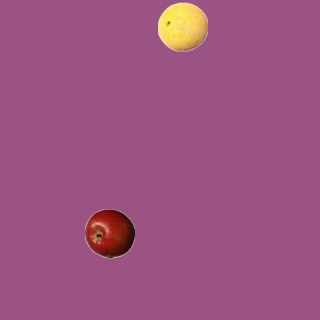Apple Braeburn: (84, 208, 134, 258)
Cantaloupe 1: (157, 1, 207, 51)
